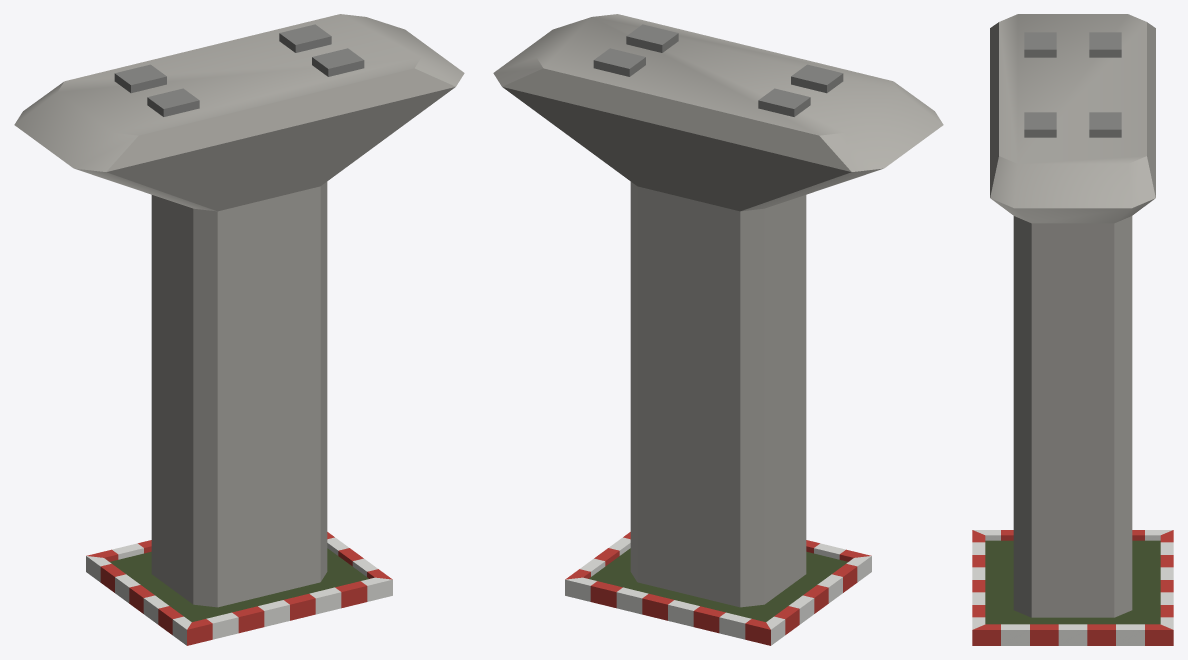
The model's file is SM_MetroPier.fbx.
The picture shows the model from 3 angles, left to right: view 1: azimuth 30°, elevation 25°; view 2: azimuth 150°, elevation 25°; view 3: azimuth 270°, elevation 25°; orthographic projection.
Parts seen in each view (by area): view 1: SM_MetroPier_Column_LOD0, SM_MetroPier_Cap_LOD0, SM_MetroPier_Footing_LOD0; view 2: SM_MetroPier_Column_LOD0, SM_MetroPier_Cap_LOD0, SM_MetroPier_Footing_LOD0; view 3: SM_MetroPier_Column_LOD0, SM_MetroPier_Cap_LOD0, SM_MetroPier_Footing_LOD0.
Boxes of the visible parts, bbox=[...] form: SM_MetroPier_Column_LOD0: bbox=[151, 182, 327, 607]; SM_MetroPier_Cap_LOD0: bbox=[14, 14, 464, 211]; SM_MetroPier_Footing_LOD0: bbox=[86, 532, 392, 645]; SM_MetroPier_Column_LOD0: bbox=[630, 182, 806, 607]; SM_MetroPier_Cap_LOD0: bbox=[493, 14, 943, 211]; SM_MetroPier_Footing_LOD0: bbox=[565, 532, 871, 645]; SM_MetroPier_Column_LOD0: bbox=[1013, 216, 1132, 617]; SM_MetroPier_Cap_LOD0: bbox=[990, 14, 1155, 223]; SM_MetroPier_Footing_LOD0: bbox=[972, 530, 1173, 645].
Size of what is drawn, in the model's own units: 7.6 by 9.65 by 3.4.
